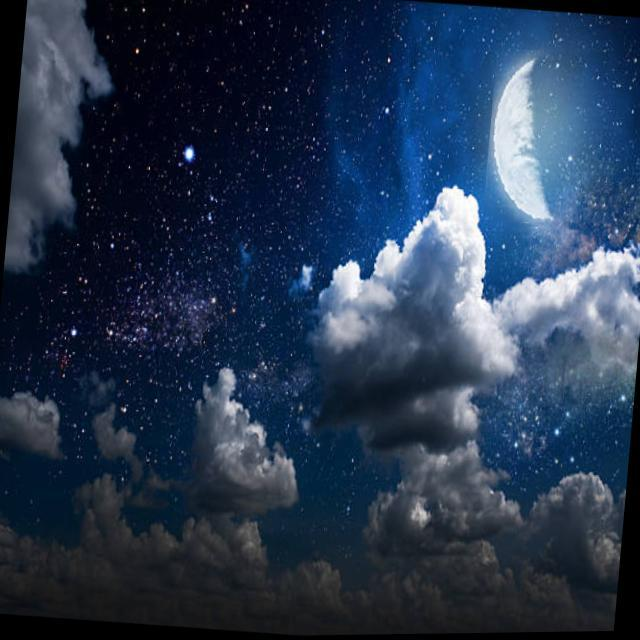moon: (482, 46, 624, 236)
